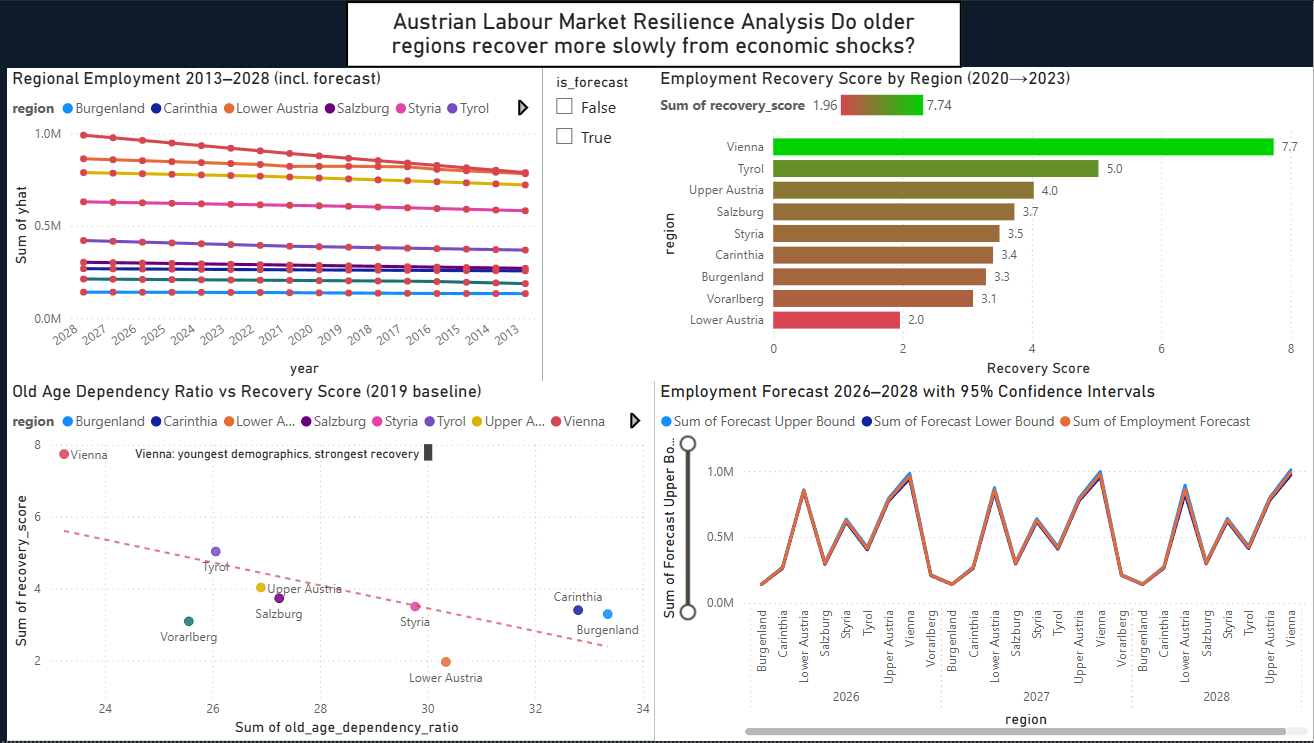

Layout of this report page (visuals, bound fields, positions):
{"tool":"powerbi","page":{"name":"Page 1","canvas":[1280,720],"ordinal":0},"visuals":[{"type":"lineChart","title":"Regional Employment 2013–2028 (incl. forecast)","fields":{"Category":["public model_output.year"],"Series":["public model_output.region"],"Y":["Sum(public model_output.yhat)"]},"box":[10,64.9,520.6,304.8],"z":0},{"type":"slicer","fields":{"Values":["public model_output.is_forecast"]},"box":[530.6,64.9,109.9,304.8],"z":1000},{"type":"clusteredBarChart","title":"Employment Recovery Score by Region (2020→2023)","fields":{"Y":["public recovery_scores.Recovery Score"],"Category":["public recovery_scores.region"]},"box":[640,64.4,640,305.6],"z":2000},{"type":"scatterChart","title":"Old Age Dependency Ratio vs Recovery Score (2019 baseline)","fields":{"X":["Sum(public recovery_scores.old_age_dependency_ratio)"],"Series":["public recovery_scores.region"],"Y":["public recovery_scores.recovery_score"]},"box":[9.7,369.6,630.3,350.2],"z":3000},{"type":"lineChart","title":"Employment Forecast 2026–2028 with 95% Confidence Intervals","fields":{"Y":["Sum(public model_output.Forecast Upper Bound)","Sum(public model_output.Forecast Lower Bound)","Sum(public model_output.Employment Forecast)"],"Category":["public model_output.year","public model_output.region"]},"box":[640,369.6,640,350.2],"z":4000},{"type":"textbox","box":[129.4,426,298.6,26.3],"z":5000},{"type":"textbox","box":[339.7,0,598.5,64.9],"z":6000}]}

Visuals, with their boxes in screenshot pixels (x1, y1, x2, y2), scaled from the page's 1280x720 canvas onto the 1314x743 screenshot:
"Regional Employment 2013–2028 (incl. forecast)" lineChart: x1=10 y1=67 x2=545 y2=382
slicer - public model_output.is_forecast: x1=545 y1=67 x2=658 y2=382
"Employment Recovery Score by Region (2020→2023)" clusteredBarChart: x1=657 y1=66 x2=1313 y2=382
"Old Age Dependency Ratio vs Recovery Score (2019 baseline)" scatterChart: x1=10 y1=381 x2=657 y2=742
"Employment Forecast 2026–2028 with 95% Confidence Intervals" lineChart: x1=657 y1=381 x2=1313 y2=742
textbox: x1=133 y1=440 x2=439 y2=467
textbox: x1=349 y1=0 x2=963 y2=67
